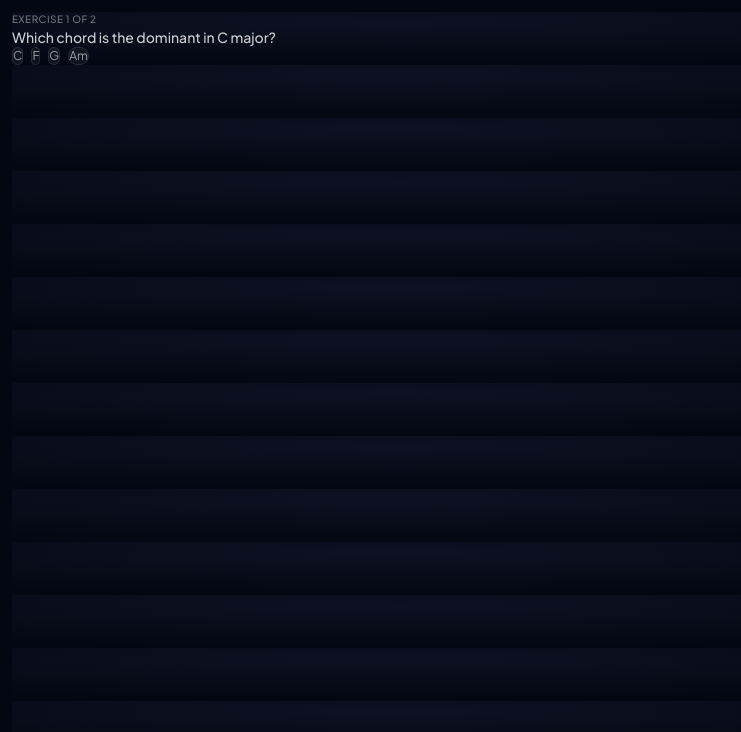
Test: ExercisePanel › correct answer advances to next exercise after delay
Click the button "G" at (54, 56), box 48,47 -> 60,65
Wait 3000 ms
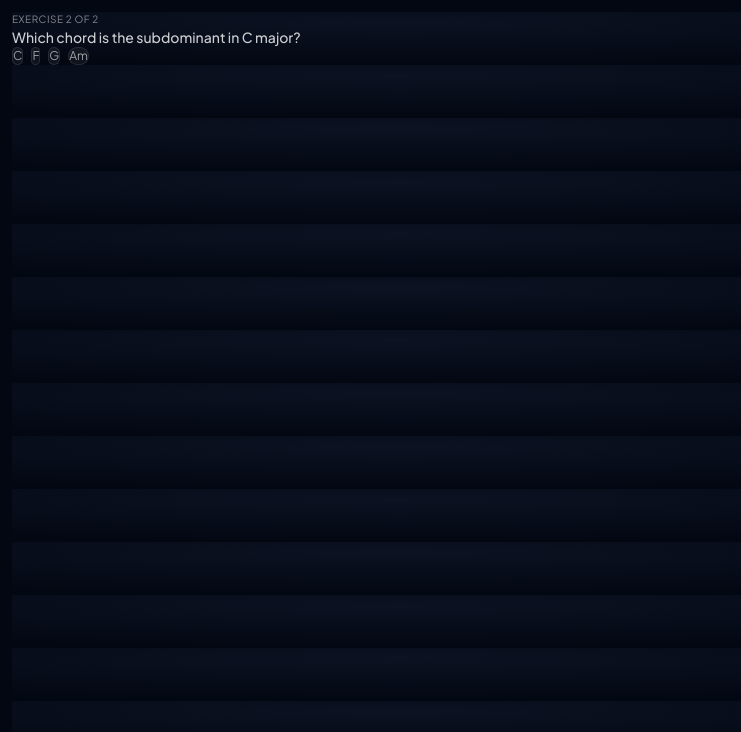
Check: the text "Exercise 2 of 2" is shown, box 12,12 -> 99,27
